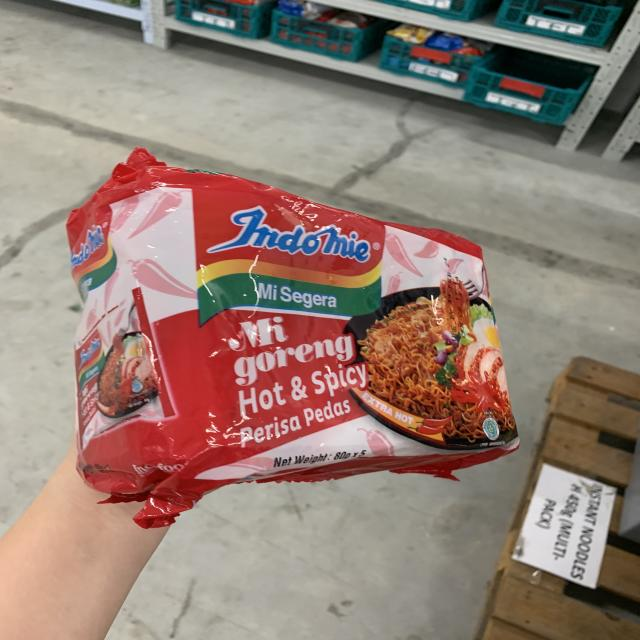object_name: (85, 182, 508, 472)
